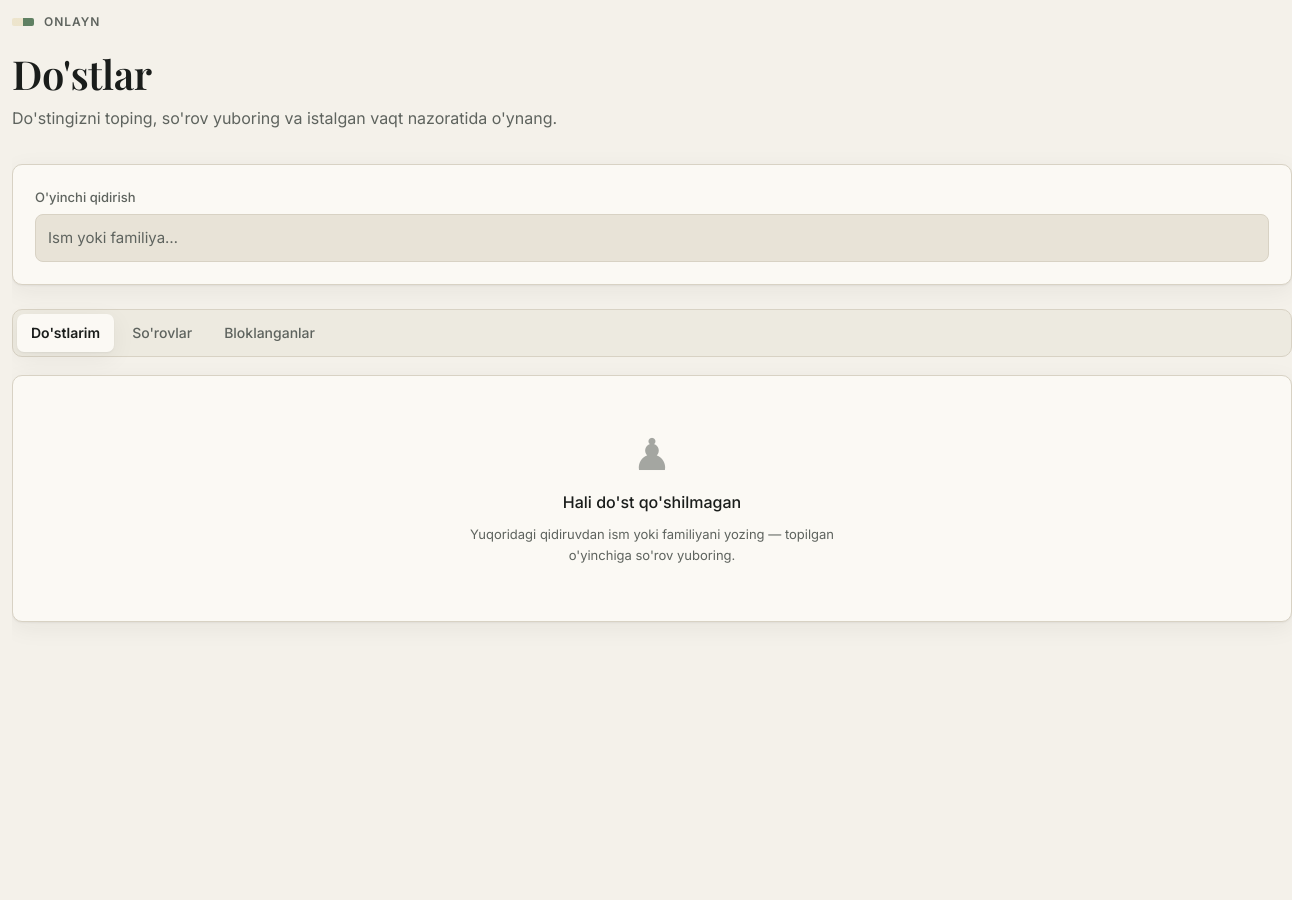
do`stlar sahifasi › qidiruv › so`rov yuborilganda tugma o`rniga tasdiq matni chiqadi
The image size is (1292, 900).
Type "Sindarov" into the search field at (652, 238), box [35, 214, 1269, 262]
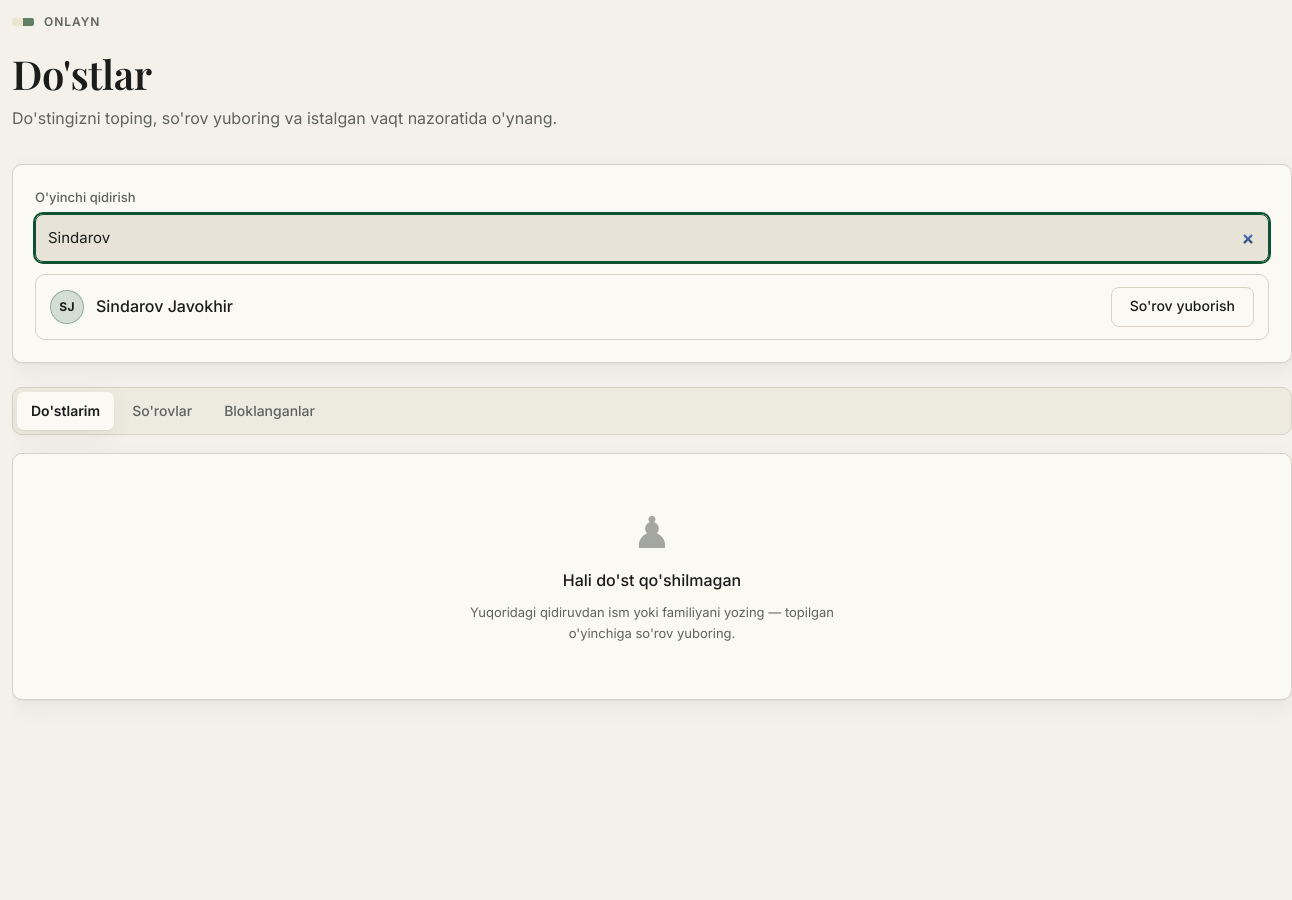
Click the button "So'rov yuborish" at (1182, 307), box [1111, 287, 1254, 327]
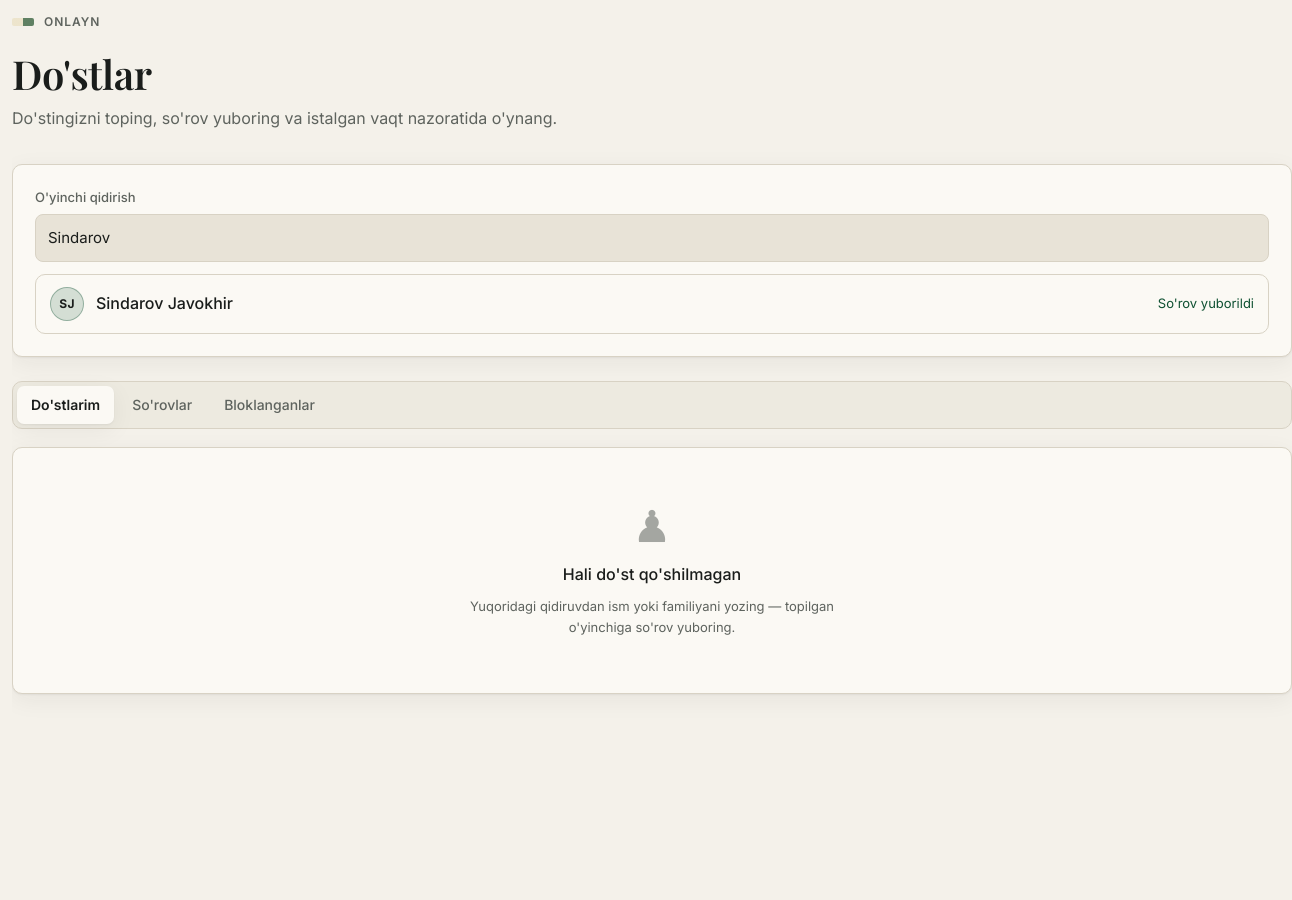
Expected: the text "So'rov yuborildi" is shown, [1158, 293, 1254, 314]
